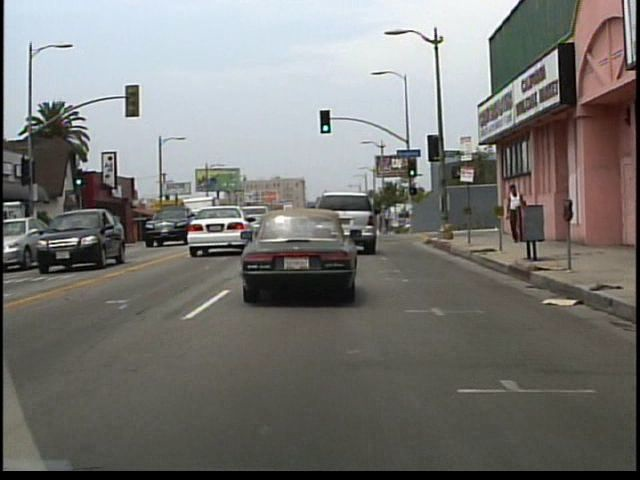person: (503, 181, 523, 244)
